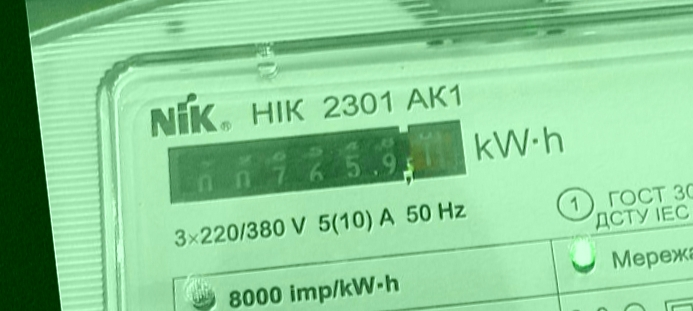0: (233, 165, 255, 192), (196, 168, 216, 196)
1: (420, 137, 438, 170)
5: (341, 150, 366, 179)
6: (306, 157, 328, 183)
7: (269, 162, 292, 189)
9: (379, 148, 400, 177)
screen: (154, 99, 481, 225)
